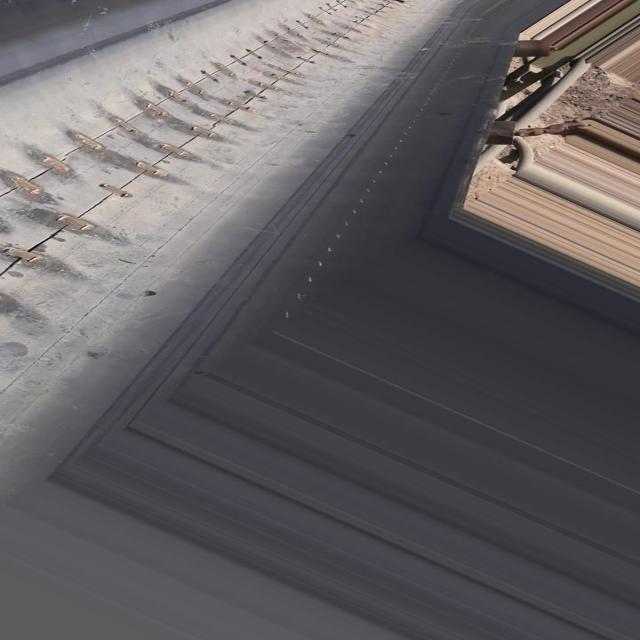Roller: (515, 39, 552, 61)
patch work: (0, 0, 447, 283)
